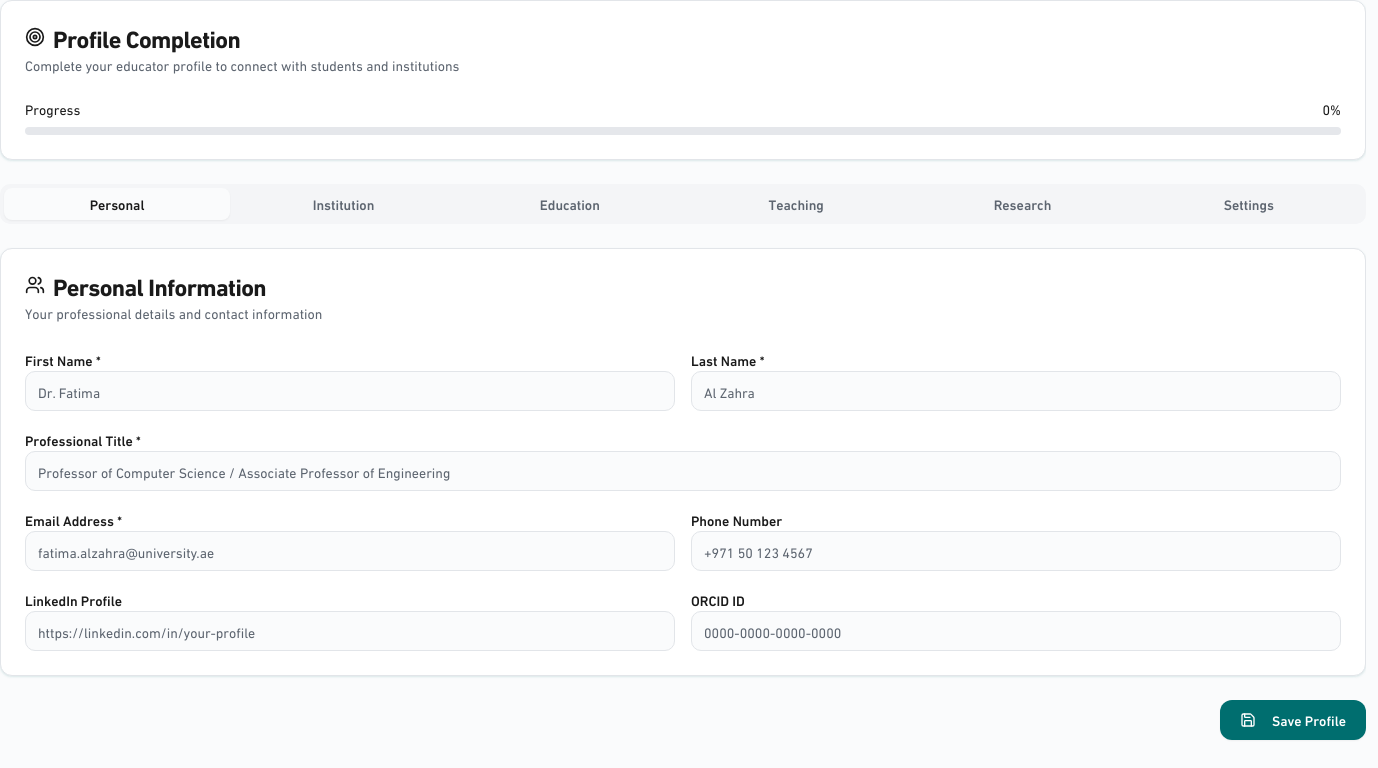
Test case: Educator Persona Components › EducatorProfileForm › renders profile form with all required fields
Expected: the heading "Profile Completion" is shown, [25, 19, 240, 54]
Expected: the field labelled "First Name *" is shown, [25, 371, 675, 411]
Click the tab "Institution".
click(343, 204)  # box [230, 188, 457, 220]
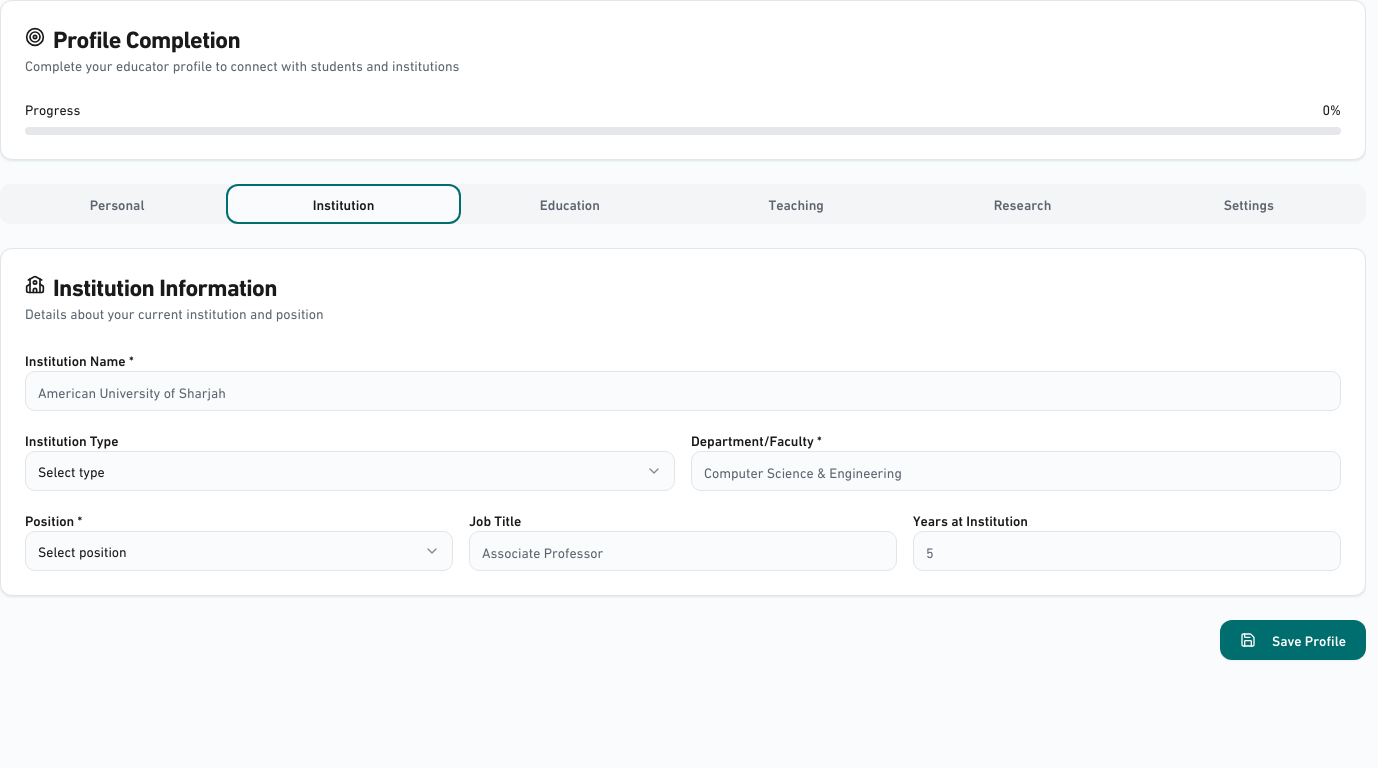
Expected: the field labelled "Institution Name *" is shown, [25, 371, 1341, 411]
Expected: the field labelled "Department/Faculty *" is shown, [691, 451, 1341, 491]
